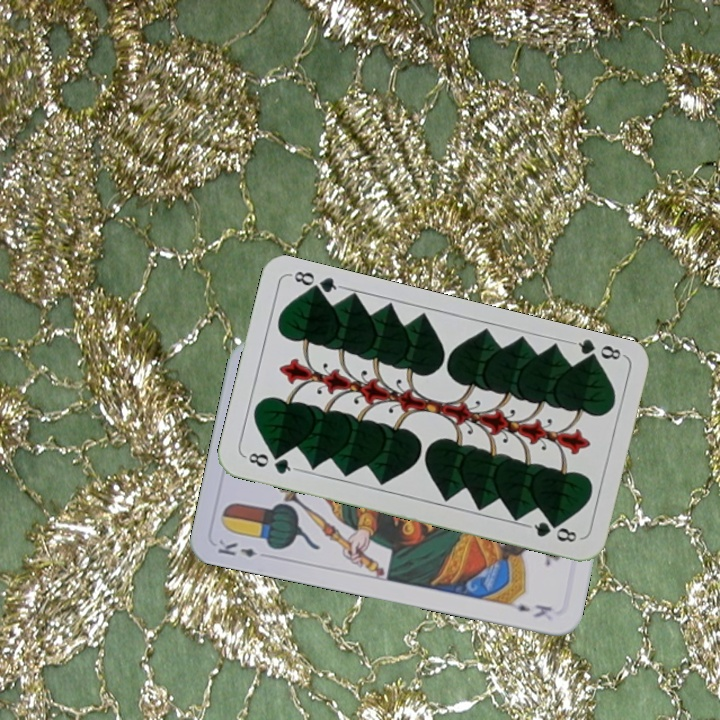EK: (214, 535, 259, 560)
G8: (568, 335, 626, 367), (241, 448, 299, 477)
